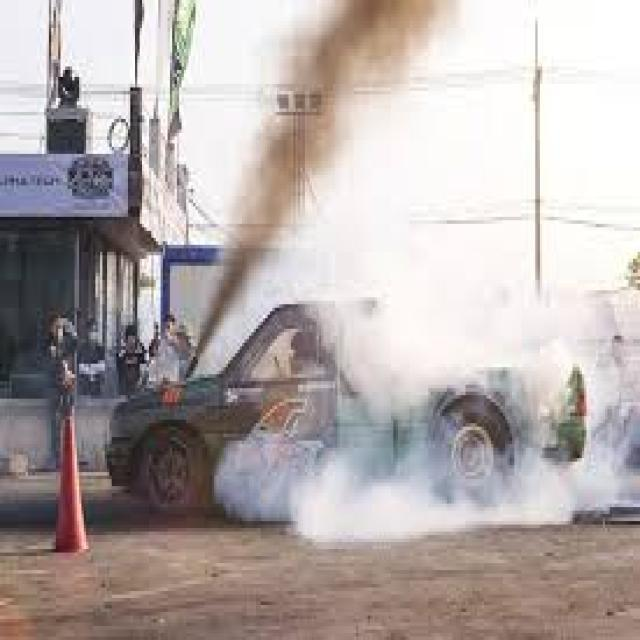Smoke: (215, 240, 640, 543), (195, 0, 460, 367)
